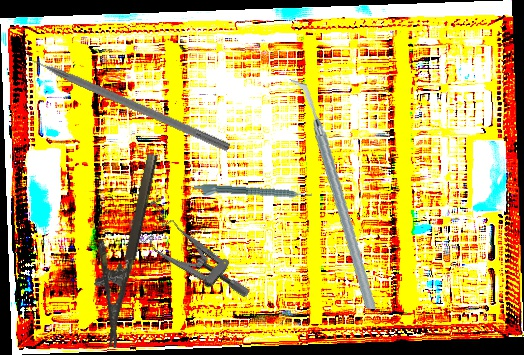Chopper: (261, 79, 405, 310), (17, 39, 236, 152)
Handpiece: (193, 182, 313, 205)
Needle Holder: (76, 146, 161, 349)
Speculum: (124, 185, 253, 328)
